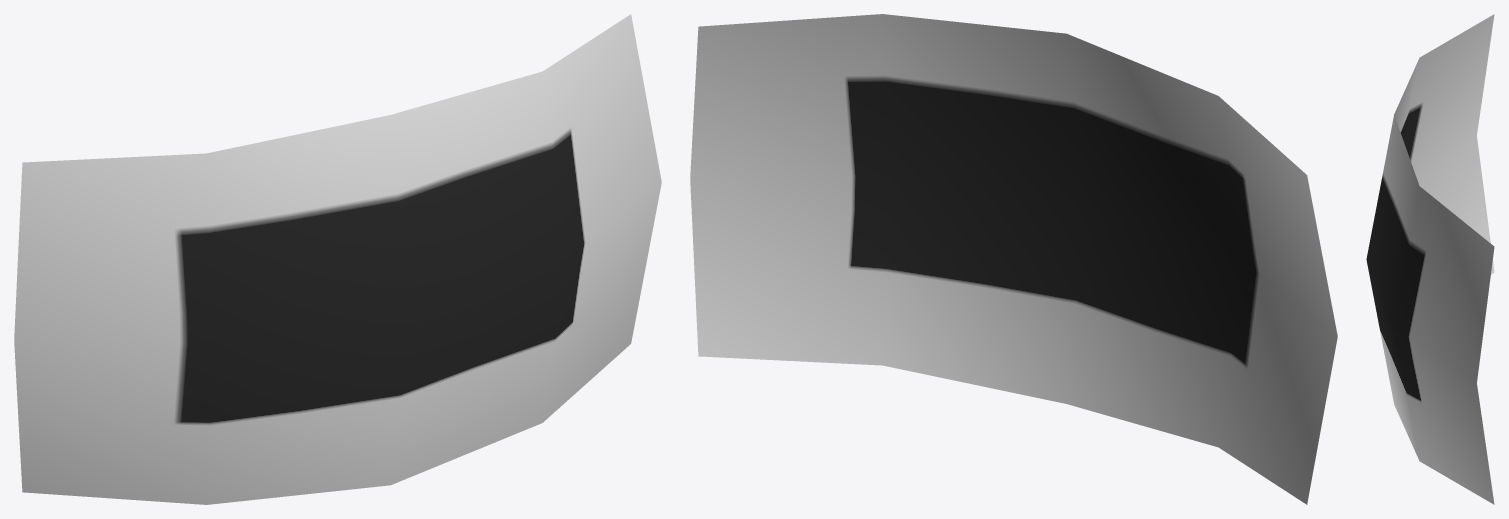
Rendered from eye3.fbx.
3 renders of one model, left to right at view 1: azimuth 30°, elevation 25°; view 2: azimuth 150°, elevation 25°; view 3: azimuth 270°, elevation 25°, orthographic. The views are drawn at different scales.
Visible parts, largest first — view 1: Cube.008; view 2: Cube.008; view 3: Cube.008.
Part boxes in pixels (x1,y1,x2,y2): Cube.008: (14, 14, 661, 504); Cube.008: (690, 14, 1337, 504); Cube.008: (1366, 14, 1494, 504).
Bounding box in the file's own units: 43.42 × 199 × 109.
